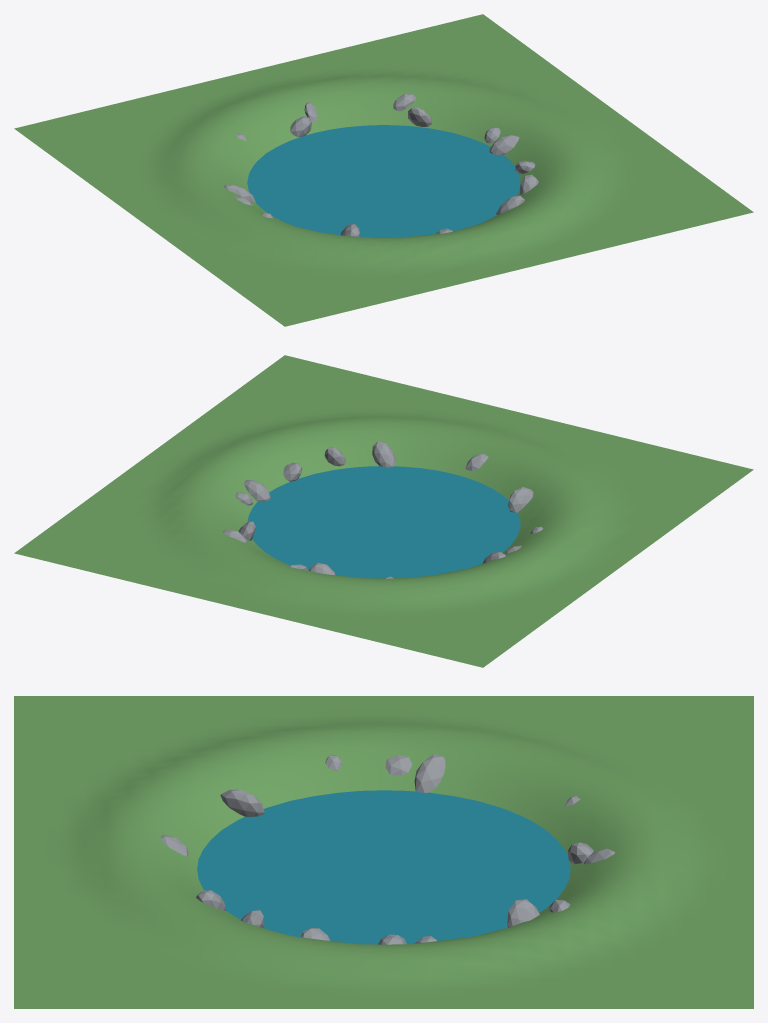
File: pond.fbx
3 views of the same model, one above another, from view 1: azimuth 30°, elevation 25°; view 2: azimuth 150°, elevation 25°; view 3: azimuth 270°, elevation 25° (orthographic). The views are drawn at different scales.
Visible parts, largest first — view 1: GroundTerrain, WaterSurface; view 2: GroundTerrain, WaterSurface; view 3: GroundTerrain, WaterSurface, Rock_8, Rock_11, Rock_2.
Part boxes in pixels (bbox=[...]): GroundTerrain: bbox=[14, 14, 753, 326]; WaterSurface: bbox=[247, 125, 520, 238]; GroundTerrain: bbox=[14, 355, 753, 667]; WaterSurface: bbox=[247, 466, 520, 578]; GroundTerrain: bbox=[14, 696, 753, 1008]; WaterSurface: bbox=[197, 790, 570, 944]; Rock_8: bbox=[414, 754, 445, 792]; Rock_11: bbox=[220, 789, 264, 816]; Rock_2: bbox=[507, 899, 539, 927].
Bounding box in the file's own units: 1200 × 140 × 1200.
